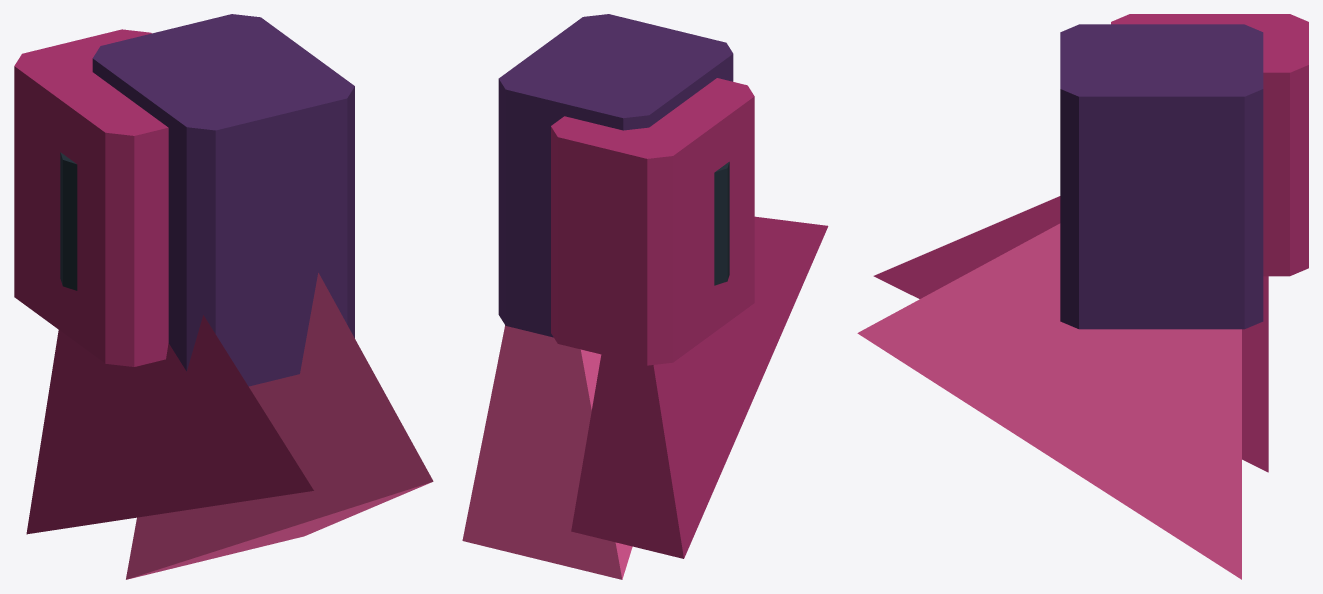
File: enemy_striker_lod_forearm_r.obj
The picture shows the model from 3 angles, left to right: view 1: azimuth 30°, elevation 25°; view 2: azimuth 150°, elevation 25°; view 3: azimuth 270°, elevation 25°; orthographic projection. The views are drawn at different scales.
Size of the model in its own units: 0.5116 by 0.96 by 0.845.
